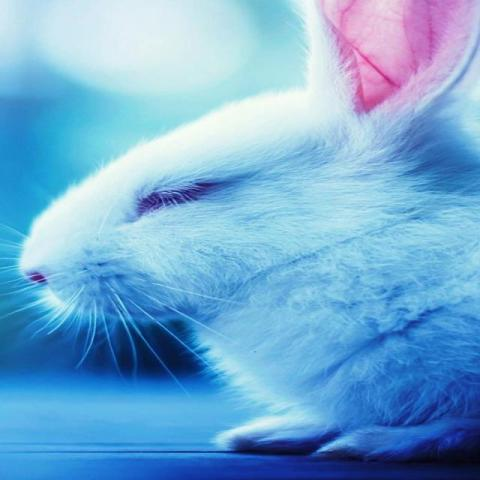small_animal: (11, 0, 478, 458)
